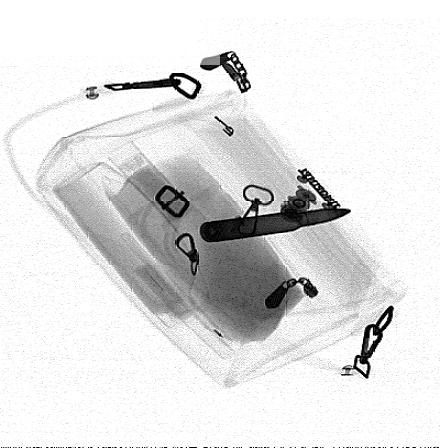Bullet: (200, 208, 353, 243)
